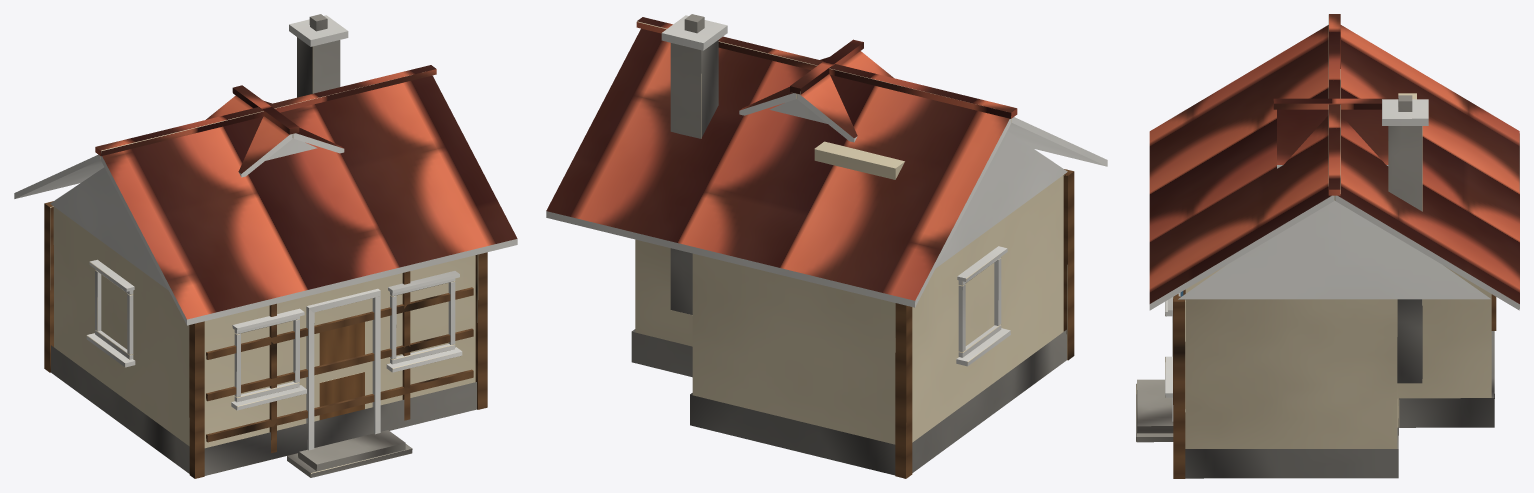
Rendered from Env_House_Cottage_A_LOD1.fbx.
3 renders of one model, left to right at view 1: azimuth 30°, elevation 25°; view 2: azimuth 150°, elevation 25°; view 3: azimuth 270°, elevation 25°, orthographic. The views are drawn at different scales.
Visible parts, largest first — view 1: Env_House_Cottage_A_LOD1; view 2: Env_House_Cottage_A_LOD1; view 3: Env_House_Cottage_A_LOD1.
Part boxes in pixels (bbox=[...]): Env_House_Cottage_A_LOD1: bbox=[14, 14, 517, 478]; Env_House_Cottage_A_LOD1: bbox=[546, 14, 1107, 478]; Env_House_Cottage_A_LOD1: bbox=[1136, 14, 1519, 478].
Size of the model in its own units: 529 by 489 by 506.
